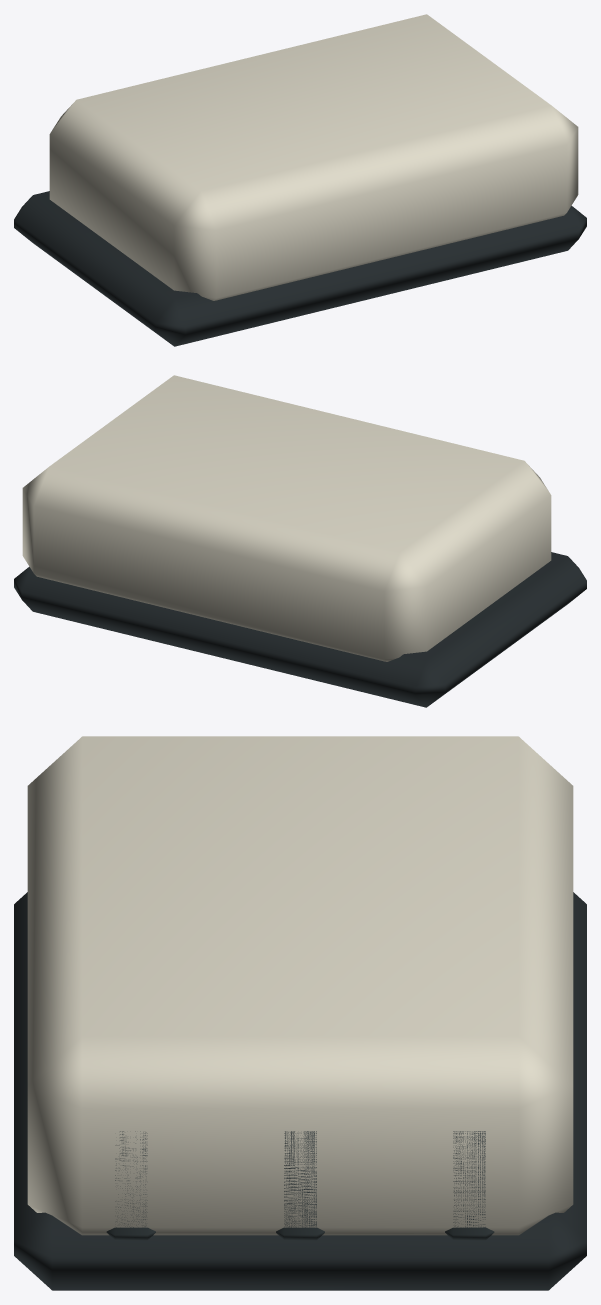
Rendered from SM_CP_RobotFoot.fbx.
3 views of the same model, one above another, from view 1: azimuth 30°, elevation 25°; view 2: azimuth 150°, elevation 25°; view 3: azimuth 270°, elevation 25° (orthographic). The views are drawn at different scales.
Visible parts, largest first — view 1: SM_CP_RobotFoot; view 2: SM_CP_RobotFoot; view 3: SM_CP_RobotFoot.
Part boxes in pixels (left/top/right/bottom): SM_CP_RobotFoot: left=14, top=14, right=586, bottom=346; SM_CP_RobotFoot: left=14, top=375, right=586, bottom=707; SM_CP_RobotFoot: left=14, top=736, right=586, bottom=1290.
Bounding box in the file's own units: 0.32 × 0.21 × 0.1.
